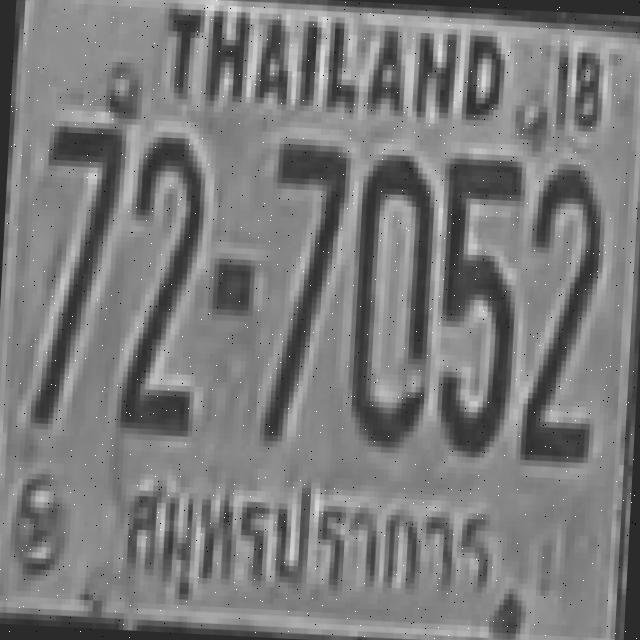0: (343, 148, 435, 444)
2: (520, 160, 602, 416), (116, 195, 200, 434), (123, 133, 203, 383)
5: (428, 155, 520, 456)
7: (37, 120, 123, 304), (266, 138, 348, 310)
SamutPrakan: (105, 457, 501, 619)
